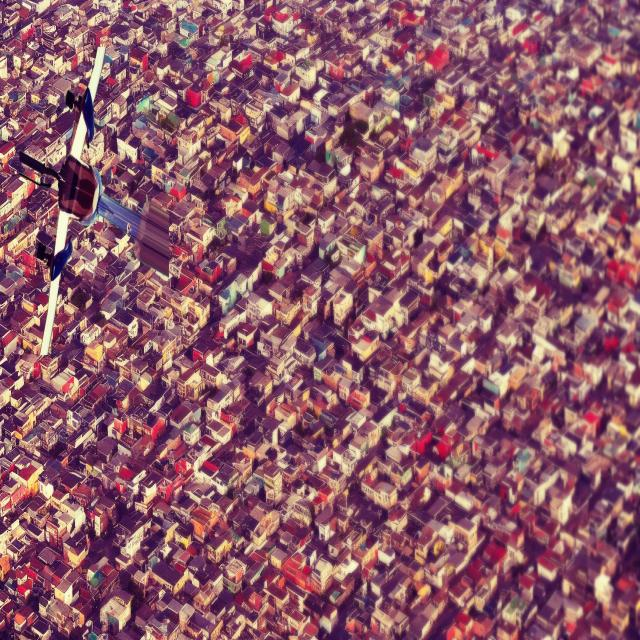airplane: (18, 46, 168, 354)
